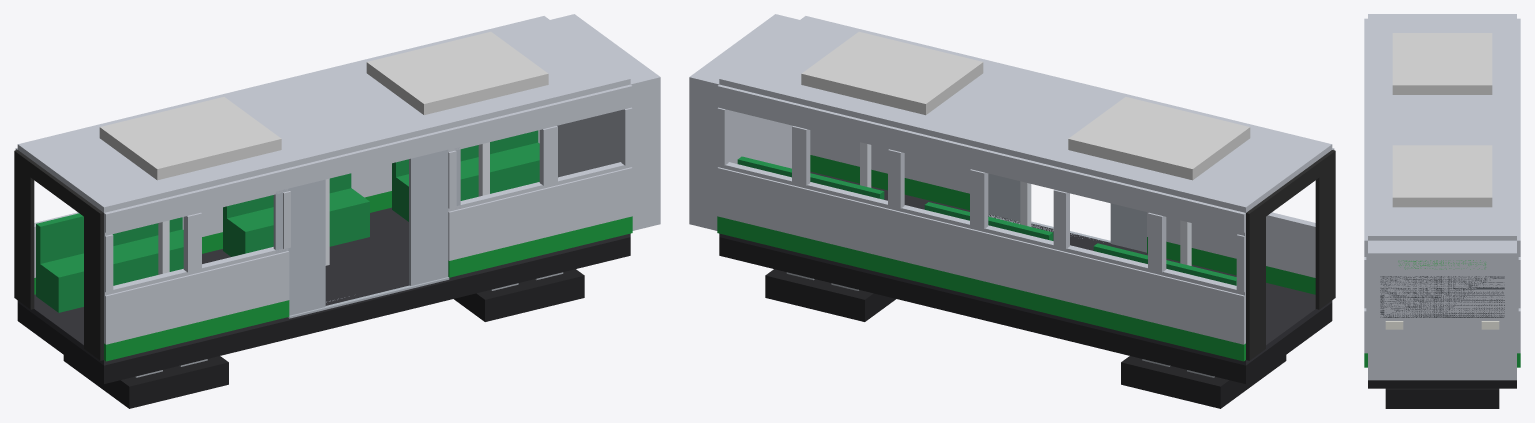
The model's file is metro_wagon_lead_half_l2.obj.
3 renders of one model, left to right at view 1: azimuth 30°, elevation 25°; view 2: azimuth 150°, elevation 25°; view 3: azimuth 270°, elevation 25°, orthographic. The views are drawn at different scales.
Size of the model in its own units: 3.16 by 1.26 by 0.88.
